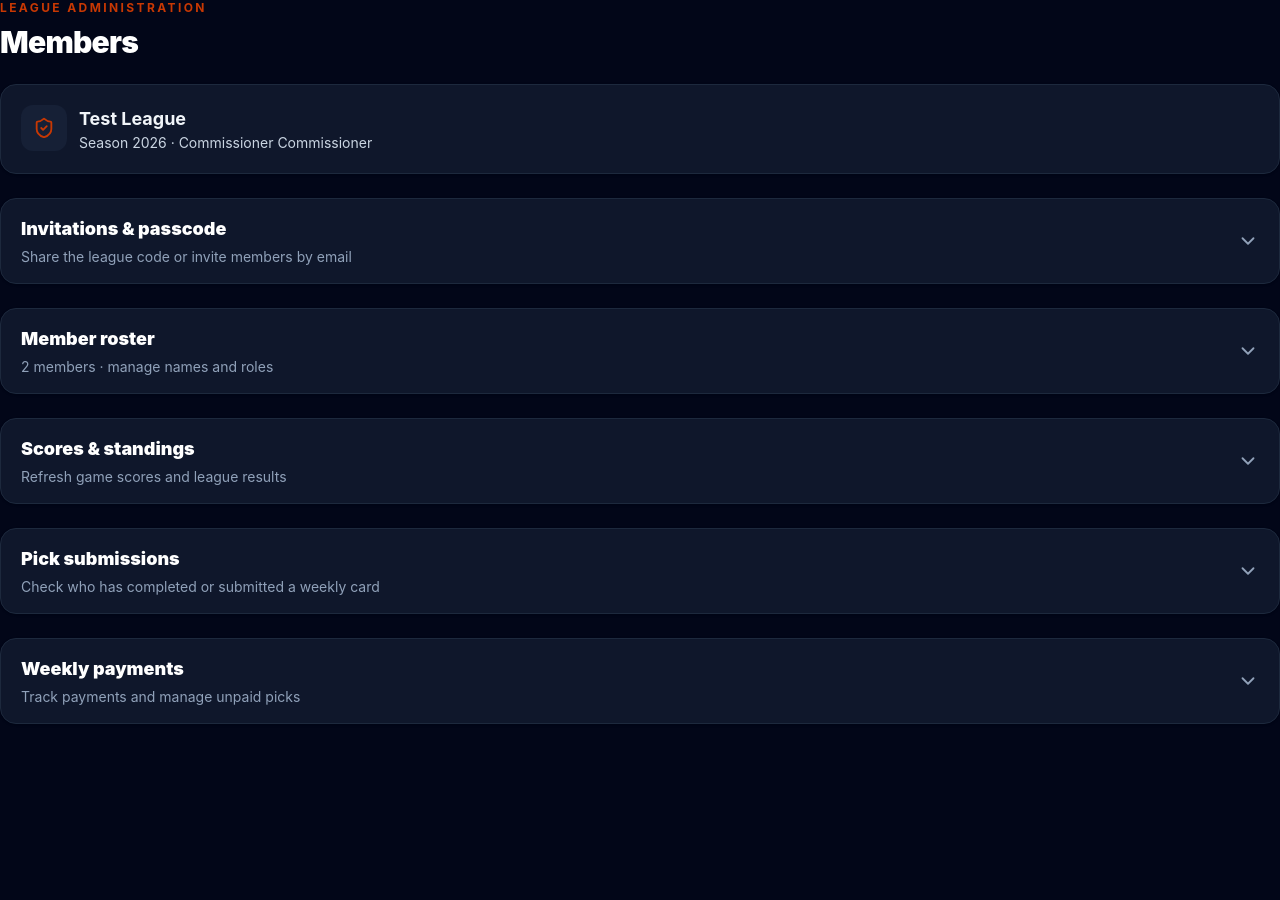
Scenario: LeagueSettingsPage › lets a commissioner refresh scores and standings
Click the button "Scores & standings Refresh game scores and league results".
click(108, 448)  # box top-left (1, 419), bottom-right (1279, 503)
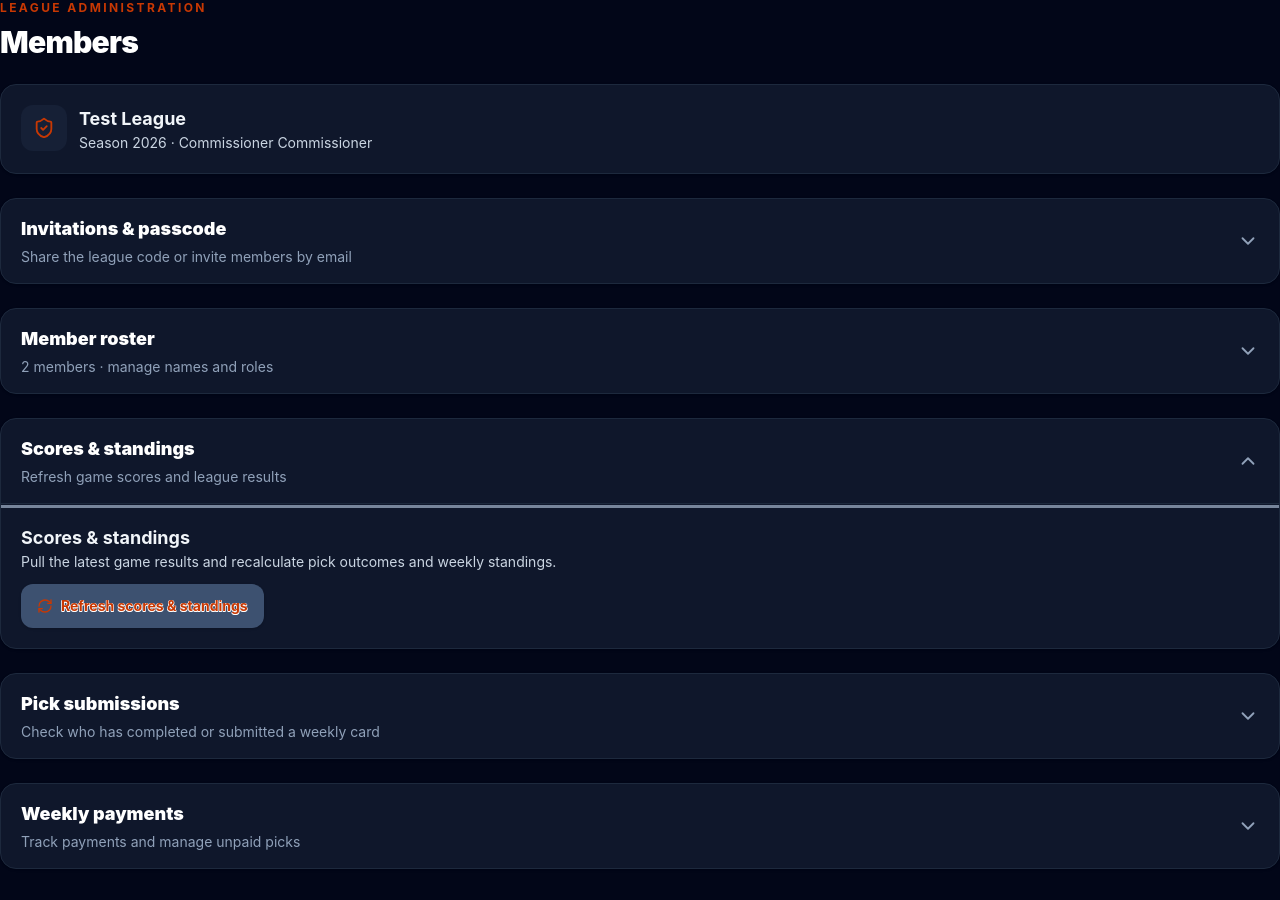
Click the button "Refresh scores & standings".
click(142, 606)  # box top-left (21, 584), bottom-right (264, 628)
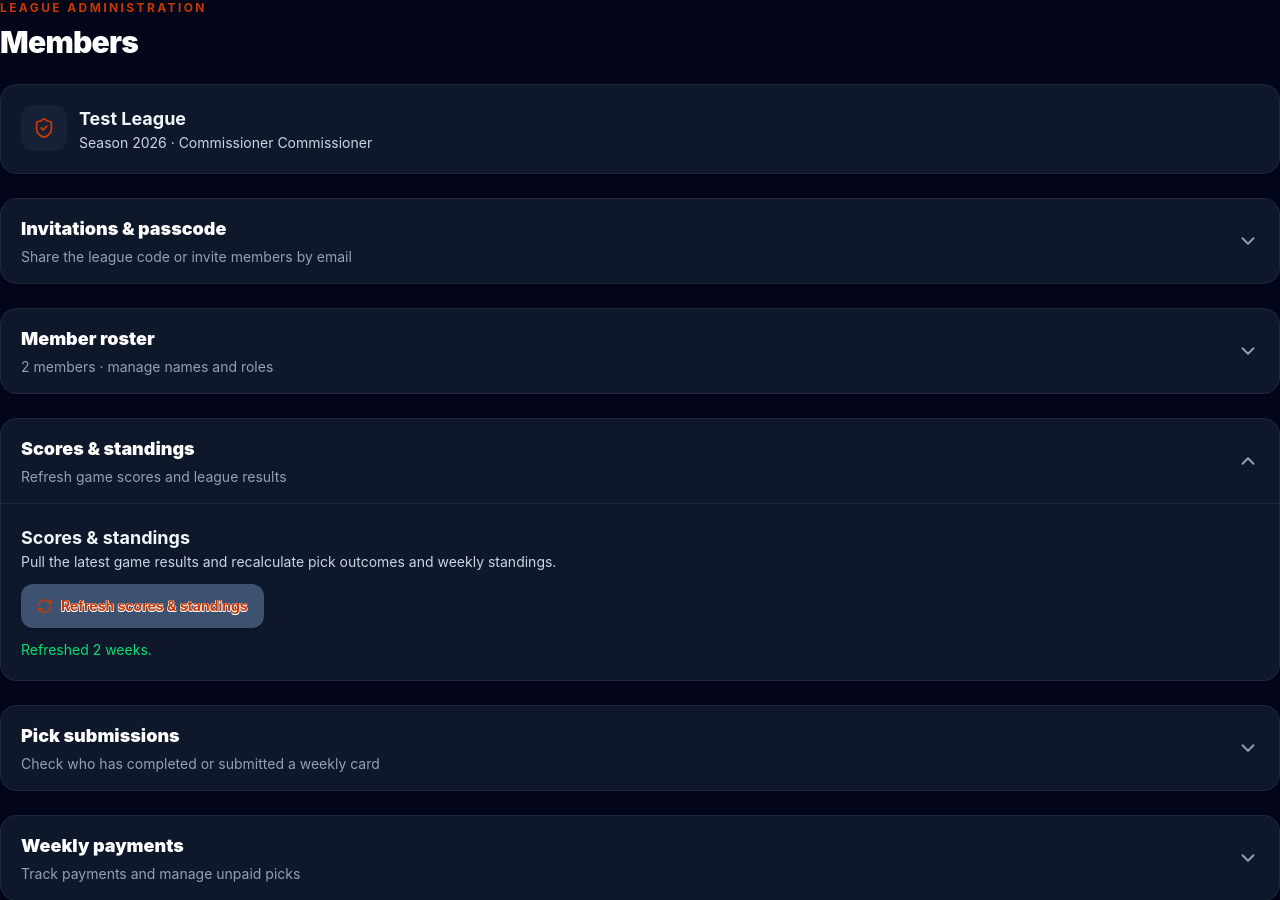
Now the text "Refreshed 2 weeks." is shown, box top-left (21, 641), bottom-right (152, 658)
